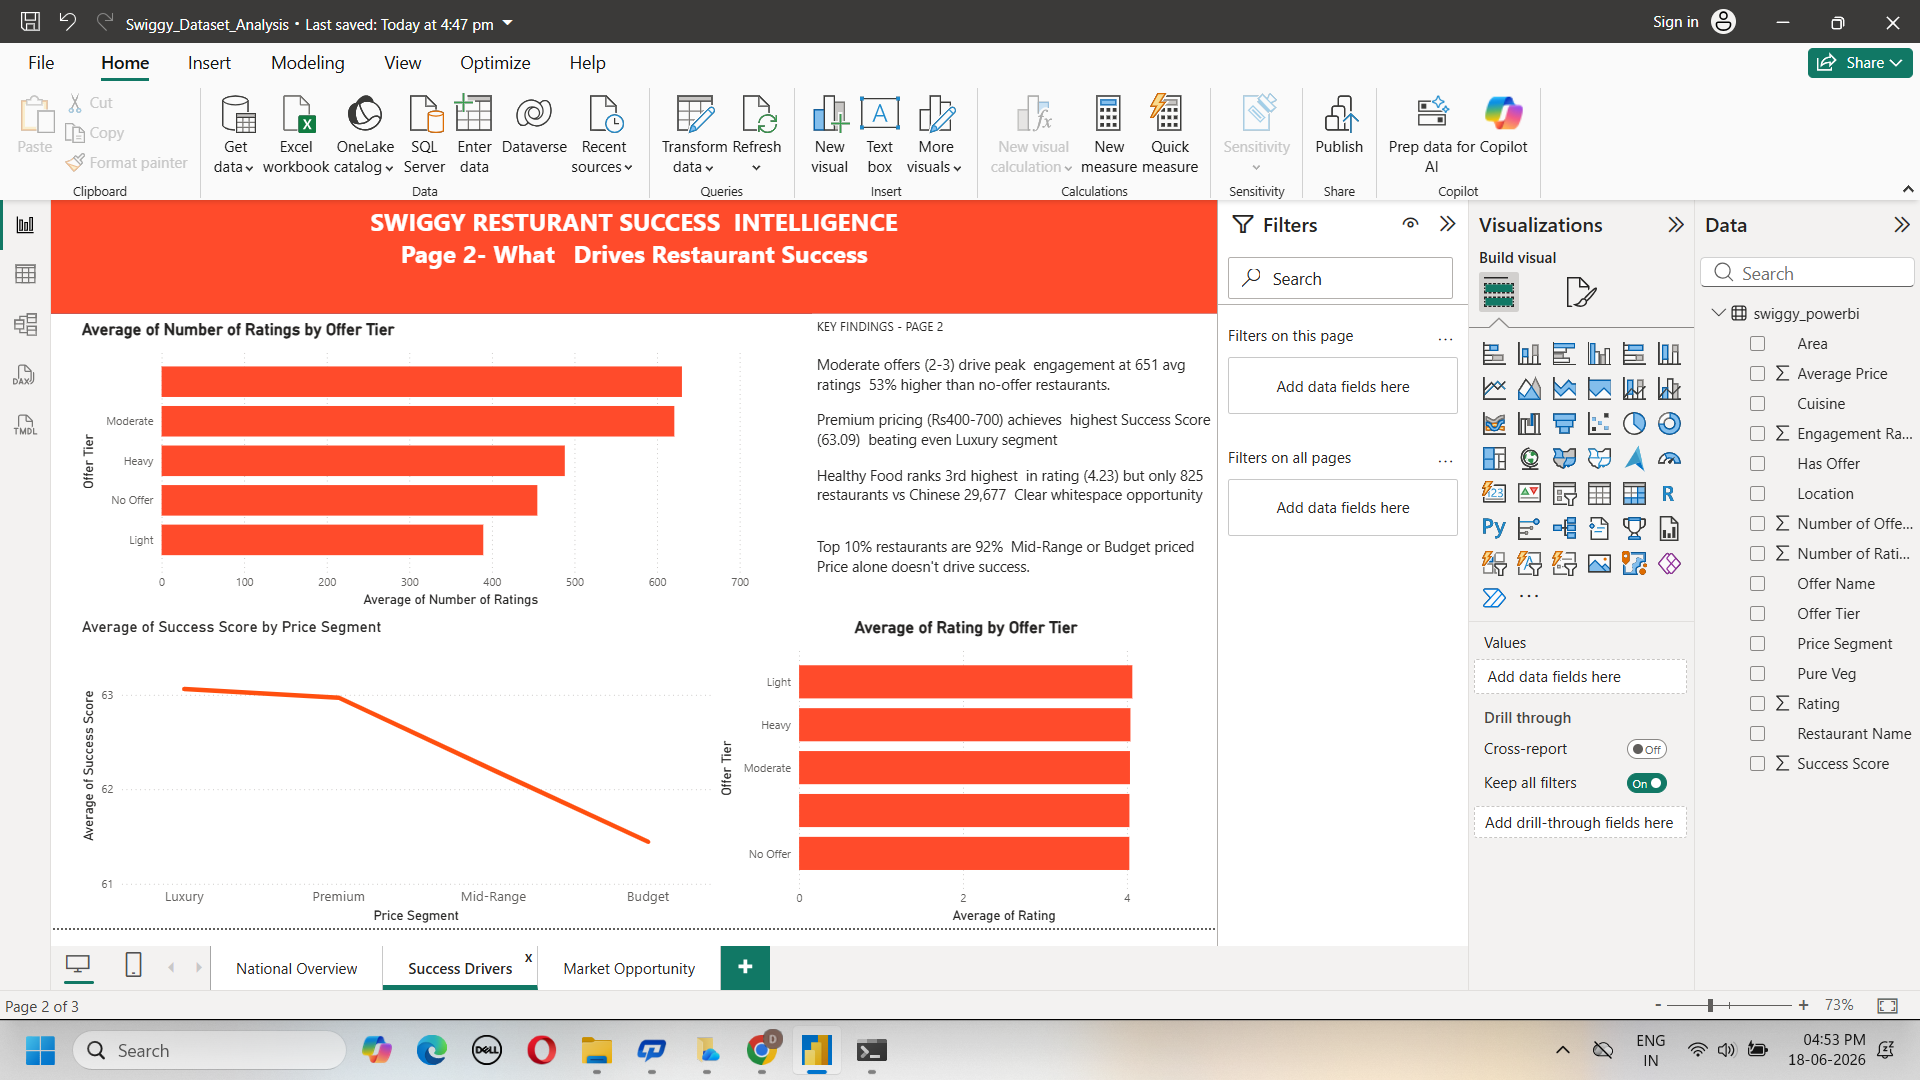

The page's visual inventory and layout, read from the dashboard file:
{"tool":"powerbi","page":{"name":"Success Drivers","canvas":[1280,799],"ordinal":1},"visuals":[{"type":"shape","box":[0,0,1280.3,124.9],"z":0},{"type":"textbox","box":[0,0,1280.3,124.9],"z":1000},{"type":"barChart","fields":{"Category":["swiggy_powerbi.Offer Tier"],"Y":["Avg(swiggy_powerbi.Number of Ratings)"]},"box":[28.8,131.7,742.4,319.7],"z":2000},{"type":"barChart","fields":{"Category":["swiggy_powerbi.Offer Tier"],"Y":["Avg(swiggy_powerbi.Rating)"]},"box":[728.6,458.3,551.6,340.3],"z":3000},{"type":"textbox","box":[835.7,124.9,444.6,333.4],"z":4000},{"type":"lineChart","fields":{"Category":["swiggy_powerbi.Price Segment"],"Y":["Avg(swiggy_powerbi.Success Score)"]},"box":[28.8,458.3,699.8,340.3],"z":5000}]}

Visuals, with their boxes on the page's 1280x799 design canvas (x1, y1, x2, y2). These are canvas units, not pixel positions in the 1920x1080 screenshot, which may show the page scaled, cropped or inside an application window:
shape: x1=0 y1=0 x2=1280 y2=125
textbox: x1=0 y1=0 x2=1280 y2=125
barChart - swiggy_powerbi.Offer Tier x Avg(swiggy_powerbi.Number of Ratings): x1=29 y1=132 x2=771 y2=451
barChart - swiggy_powerbi.Offer Tier x Avg(swiggy_powerbi.Rating): x1=729 y1=458 x2=1280 y2=799
textbox: x1=836 y1=125 x2=1280 y2=458
lineChart - swiggy_powerbi.Price Segment x Avg(swiggy_powerbi.Success Score): x1=29 y1=458 x2=729 y2=799
